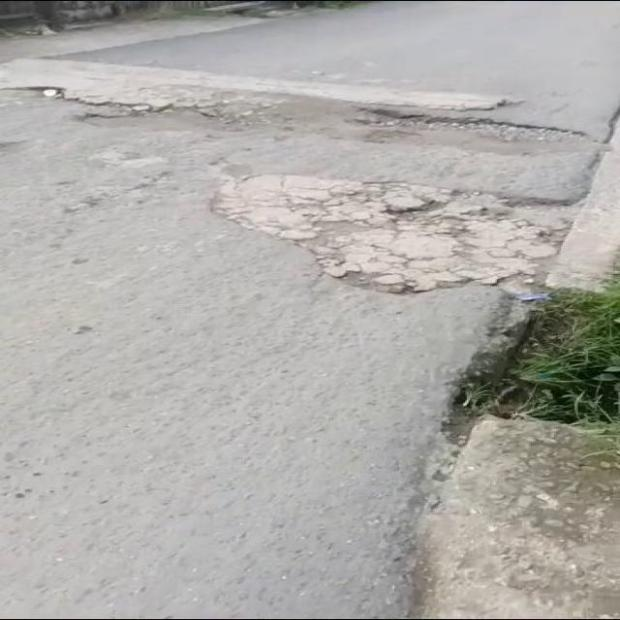lubang: (0, 58, 610, 171), (214, 175, 569, 293)
